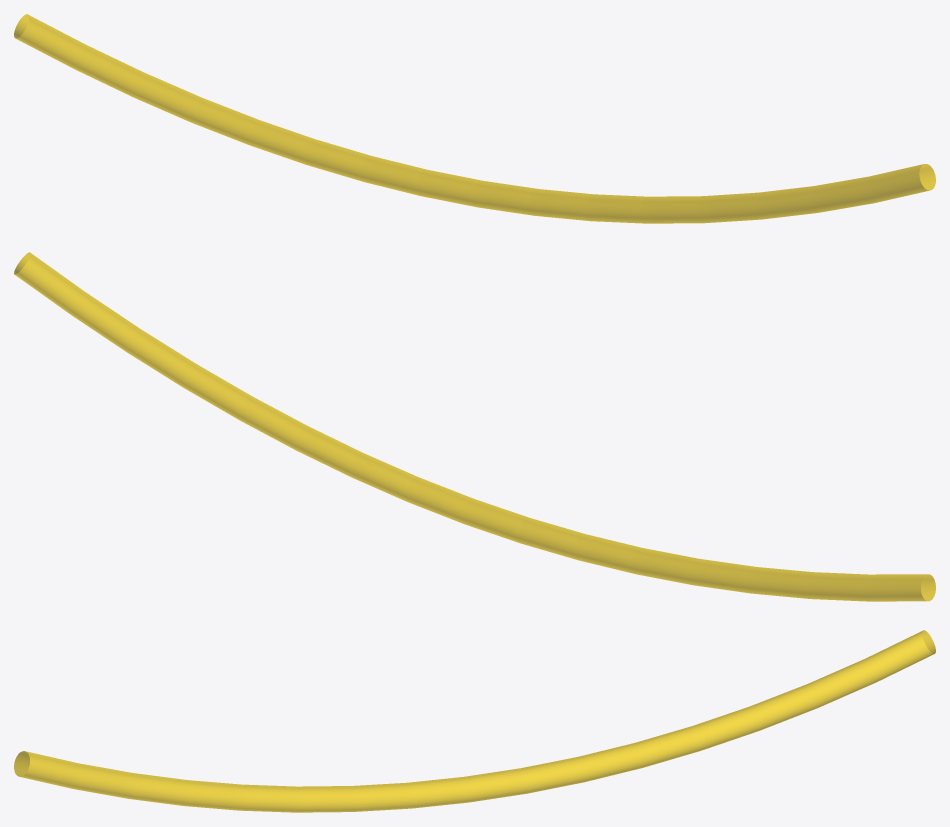
The model's file is Event_27938768_track_5.fbx.
The picture shows the model from 3 angles, top to bottom: view 1: azimuth 30°, elevation 25°; view 2: azimuth 210°, elevation 25°; view 3: azimuth 270°, elevation 25°; orthographic projection. The views are drawn at different scales.
Visible parts, largest first — view 1: Model; view 2: Model; view 3: Model.
Boxes of the visible parts, x1,y1,x2,y2 form: Model: (14, 14, 935, 223); Model: (14, 252, 935, 601); Model: (14, 630, 935, 812).
Bounding box in the file's own units: 0.7755 × 0.2616 × 1.4.
